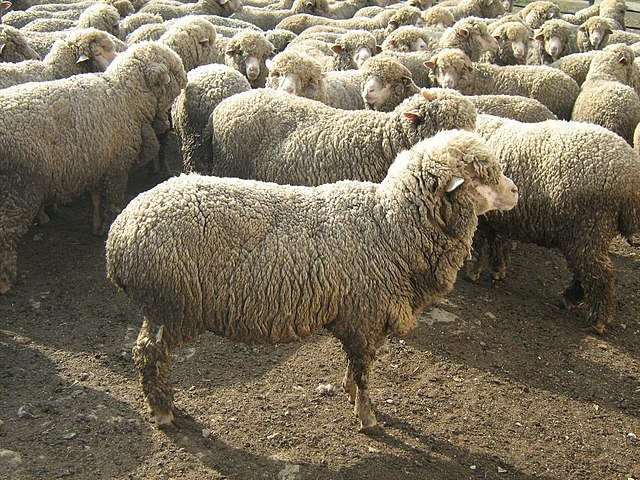standing: (107, 129, 517, 450), (1, 41, 185, 296)
